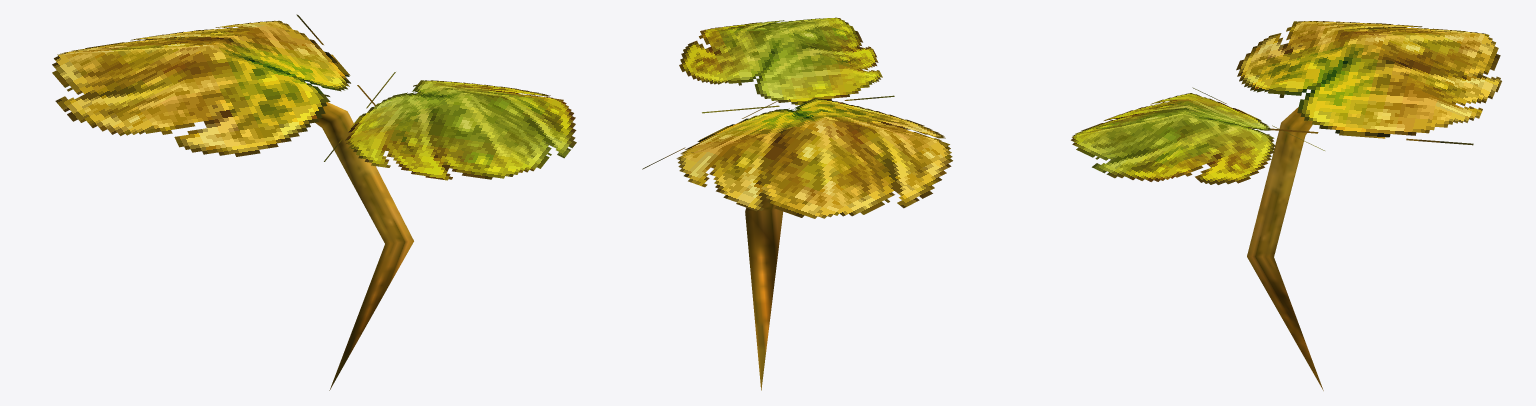
Rendered from swampofsorrowlilypad02.obj.
The picture shows the model from 3 angles, left to right: view 1: azimuth 30°, elevation 25°; view 2: azimuth 150°, elevation 25°; view 3: azimuth 270°, elevation 25°; orthographic projection. The views are drawn at different scales.
Parts seen in each view (by area): view 1: Geoset1, Geoset0, Geoset2; view 2: Geoset1, Geoset0, Geoset2; view 3: Geoset1, Geoset0, Geoset2.
Boxes of the visible parts, x1=… form: Geoset1: x1=52, y1=14, x2=375, y2=156; Geoset0: x1=324, y1=72, x2=576, y2=180; Geoset2: x1=315, y1=102, x2=413, y2=390; Geoset1: x1=642, y1=97, x2=952, y2=218; Geoset0: x1=679, y1=17, x2=894, y2=113; Geoset2: x1=745, y1=198, x2=783, y2=390; Geoset1: x1=1236, y1=21, x2=1501, y2=145; Geoset0: x1=1071, y1=87, x2=1324, y2=184; Geoset2: x1=1247, y1=107, x2=1323, y2=390.
Size of the model in its own units: 1.84 by 1.38 by 1.92.
3 materials, 3 textured.
